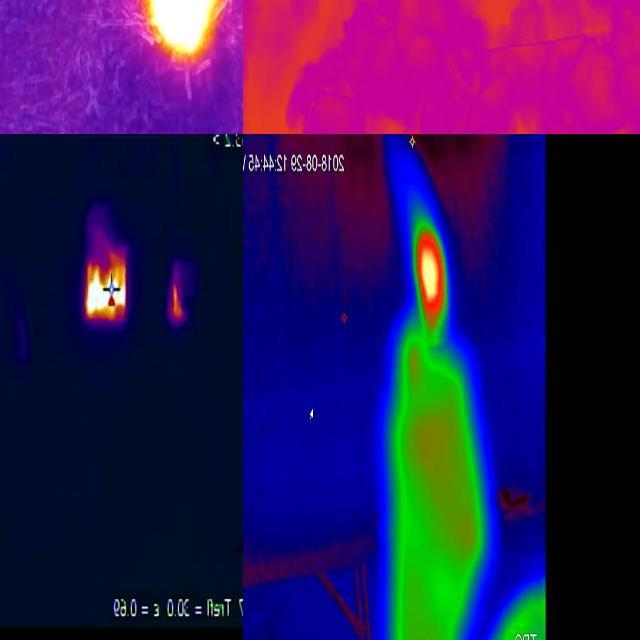fire: (141, 1, 234, 65), (410, 210, 448, 342), (86, 252, 129, 326), (169, 276, 189, 328)
